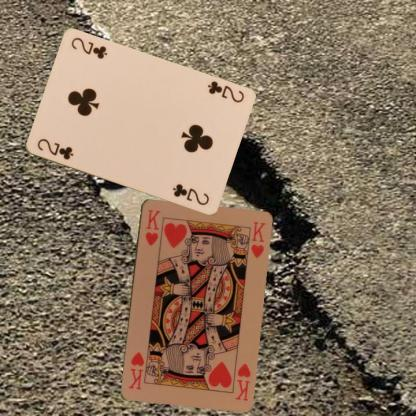2c: (205, 78, 245, 105), (34, 136, 75, 161)
Kh: (233, 361, 252, 402), (142, 207, 161, 247)
